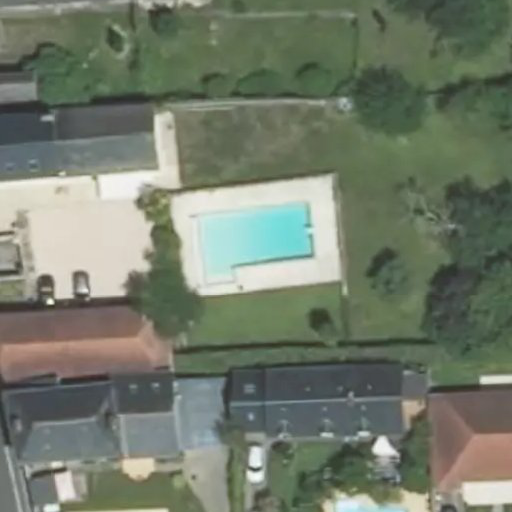pool: (197, 214, 315, 269)
